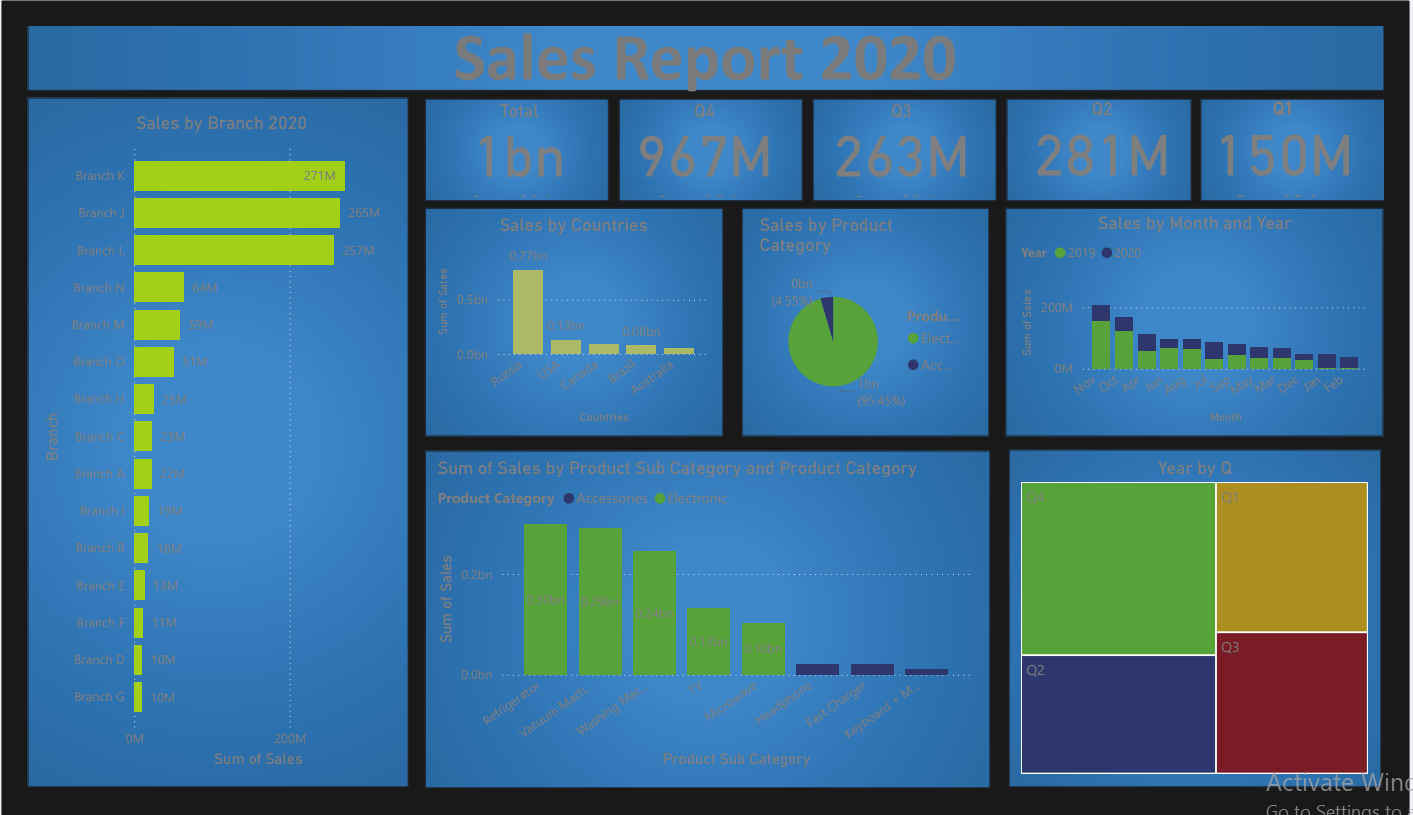

What the dashboard file says about the page in this screenshot:
{"tool":"powerbi","page":{"name":"Page 1","canvas":[1280,720],"ordinal":0},"visuals":[{"type":"barChart","title":" Sales by Branch 2020","fields":{"Y":["Sum(Table15.Sales)"],"Category":["Table15.Branch"]},"box":[9.6,80.8,346.1,623.5],"z":0},{"type":"treemap","title":" Year by Q","fields":{"Group":["Table15.Q"],"Values":["Sum(Table15.Year)"]},"box":[933.5,406.4,336.5,303.9],"z":1},{"type":"columnChart","title":" Sales by Month and Year","fields":{"Category":["Table15.Month"],"Y":["Sum(Table15.Sales)"],"Series":["Table15.Year"]},"box":[933.5,174.9,336.5,205],"z":2},{"type":"pieChart","title":" Sales by Product Category","fields":{"Category":["Table15.Product Category"],"Y":["Sum(Table15.Sales)"]},"box":[686.2,177.3,208.6,202.6],"z":3},{"type":"columnChart","title":" Sales by Countries","fields":{"Category":["Table15.Countries"],"Y":["Sum(Table15.Sales)"]},"box":[382.3,177.3,266.5,202.6],"z":4},{"type":"columnChart","fields":{"Y":["Sum(Table15.Sales)"],"Category":["Table15.Product Sub Category"],"Series":["Table15.Product Category"]},"box":[382.3,406.4,512.6,297.9],"z":5},{"type":"card","title":"Q1","fields":{"Values":["Sum(Table15.Sales)"]},"box":[1101.9,67.2,167.4,97.4],"z":7},{"type":"card","title":"Q2","fields":{"Values":["Sum(Table15.Sales)"]},"box":[933.5,67.5,162.8,96.5],"z":8},{"type":"card","title":"Q3","fields":{"Values":["Sum(Table15.Sales)"]},"box":[743.7,68.6,161.9,96.1],"z":11},{"type":"card","title":"Q4","fields":{"Values":["Sum(Table15.Sales)"]},"box":[558.5,68.6,161.9,96.1],"z":12},{"type":"card","title":"Total","fields":{"Values":["Sum(Table15.Sales)"]},"box":[382.8,68.6,161.9,96.1],"z":13}]}

Visuals, with their boxes in screenshot pixels (x1, y1, x2, y2), scaled from the page's 1280x720 canvas onto the 1413x815 screenshot:
" Sales by Branch 2020" barChart: box(11, 91, 393, 797)
" Year by Q" treemap: box(1030, 460, 1402, 804)
" Sales by Month and Year" columnChart: box(1030, 198, 1402, 430)
" Sales by Product Category" pieChart: box(758, 201, 988, 430)
" Sales by Countries" columnChart: box(422, 201, 716, 430)
columnChart - Sum(Table15.Sales) x Table15.Product Sub Category: box(422, 460, 988, 797)
"Q1" card: box(1216, 76, 1401, 186)
"Q2" card: box(1030, 76, 1210, 186)
"Q3" card: box(821, 78, 1000, 186)
"Q4" card: box(617, 78, 795, 186)
"Total" card: box(423, 78, 601, 186)
